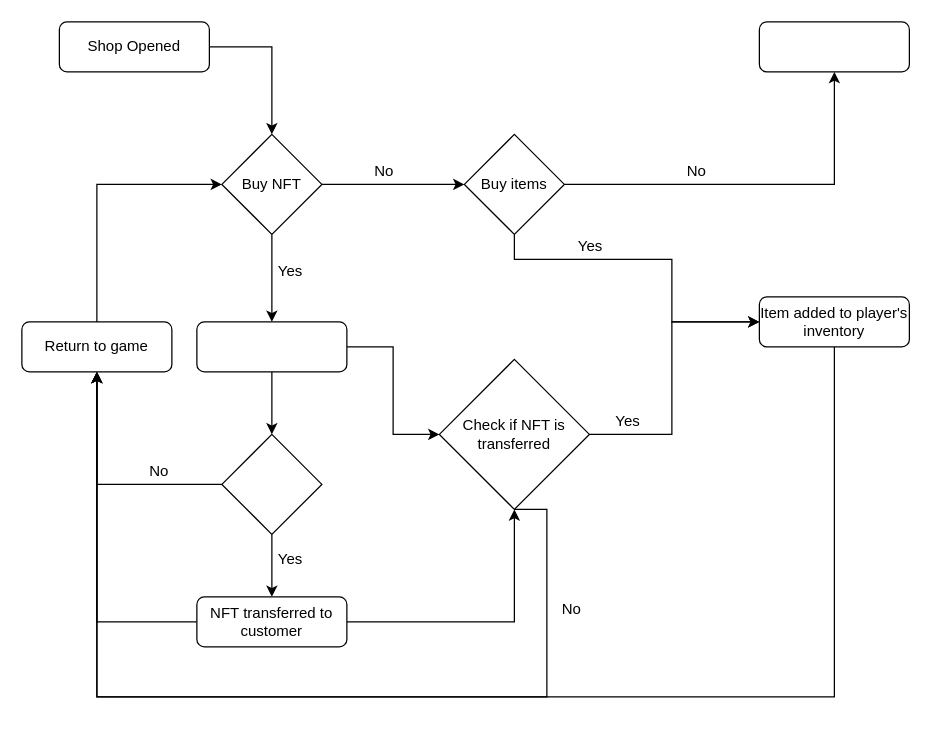
Some shapes in this 931 by 729 pixel diagram are drawn without their labels. Here are the shapes that lost their labels. From the top down, the centre of each, then its label:
At (833,46): "Shop Closed".
At (271,346): "Browser Opened to Opensea".
At (271,483): "Confirm purchase".
